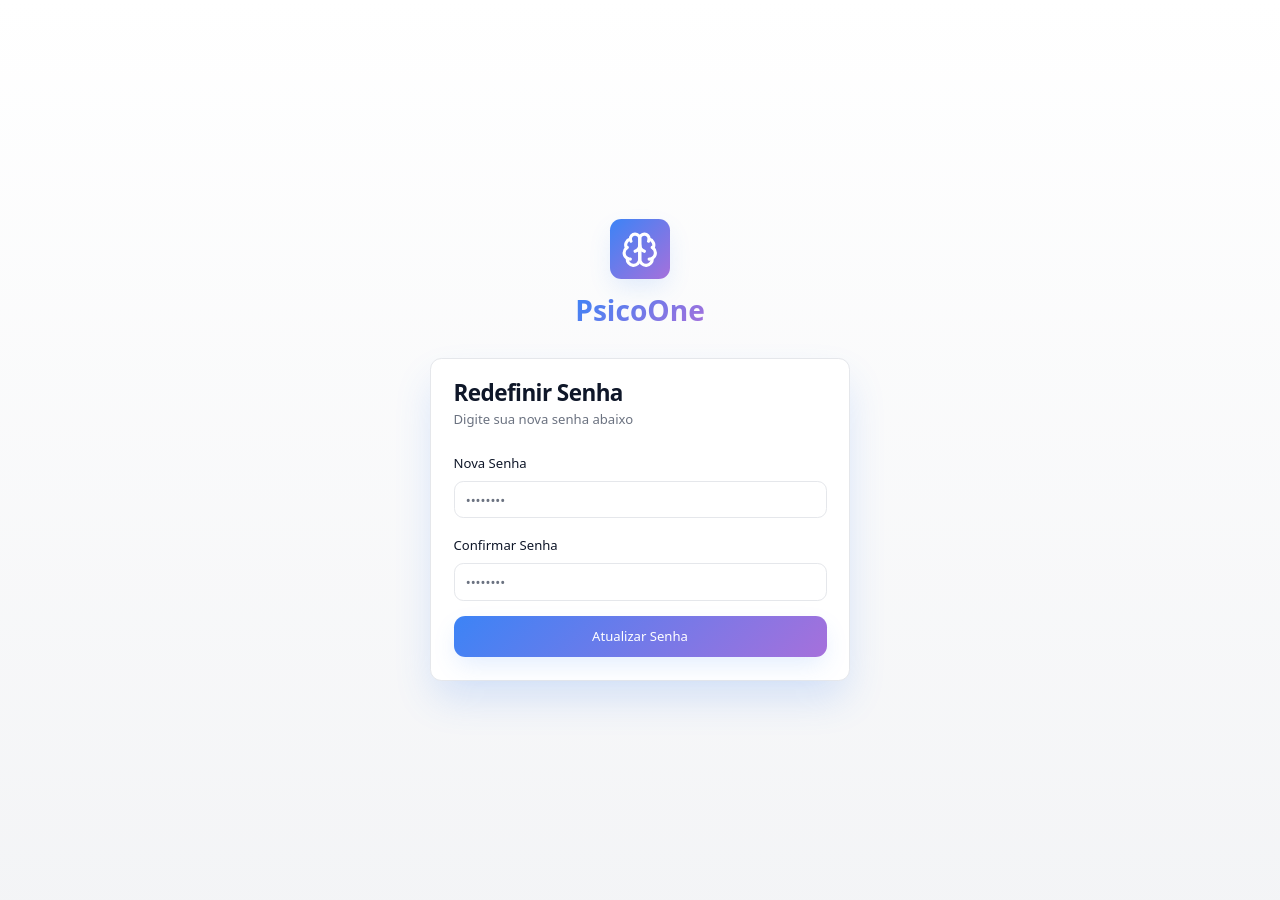
Test: Password form › updates password and closes only the current session
The image size is (1280, 900).
Type "synthetic123" into the password field labelled "Nova Senha" at (640, 500), box [454,481,826,518]
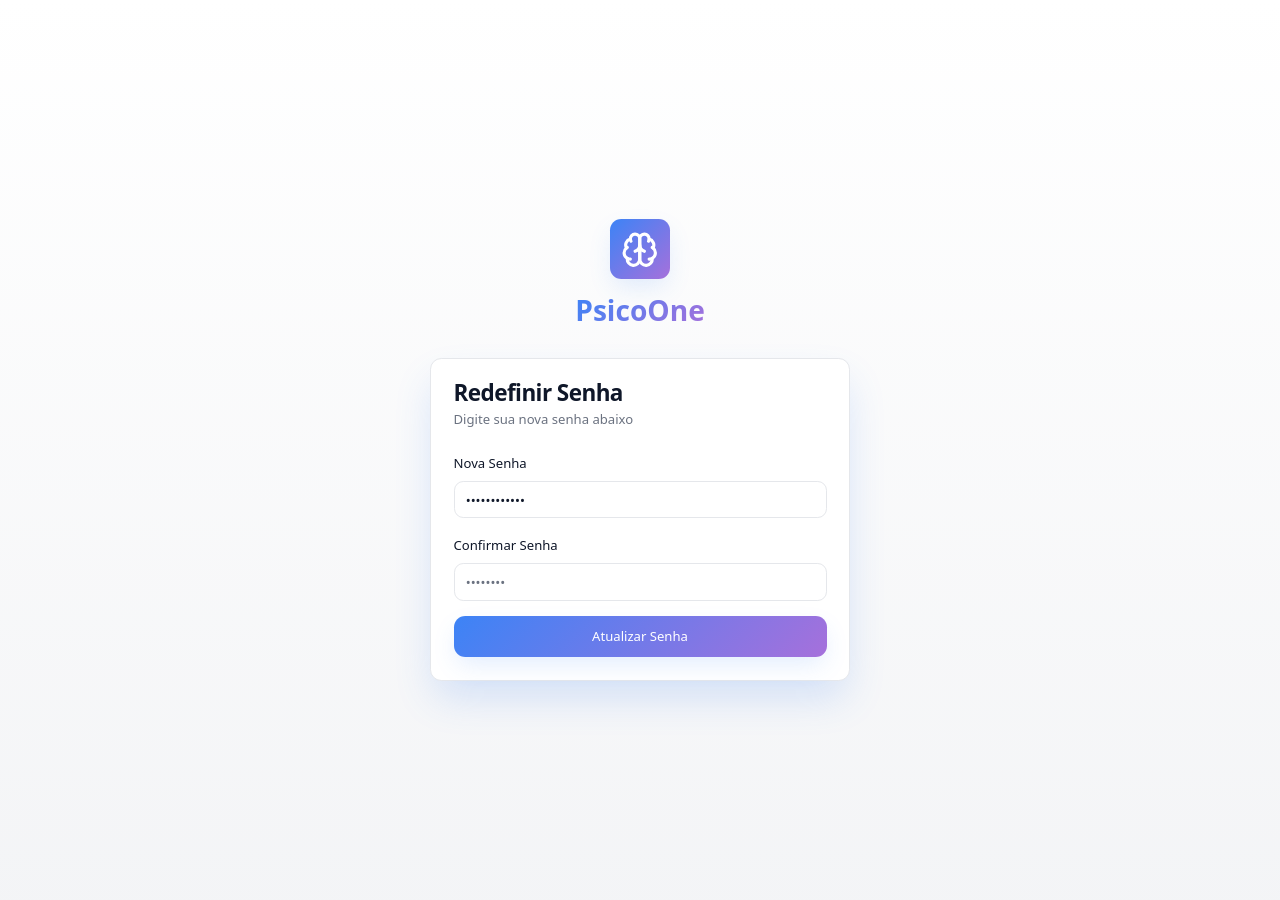
Type "synthetic123" into the password field labelled "Confirmar Senha" at (640, 582), box [454,563,826,601]
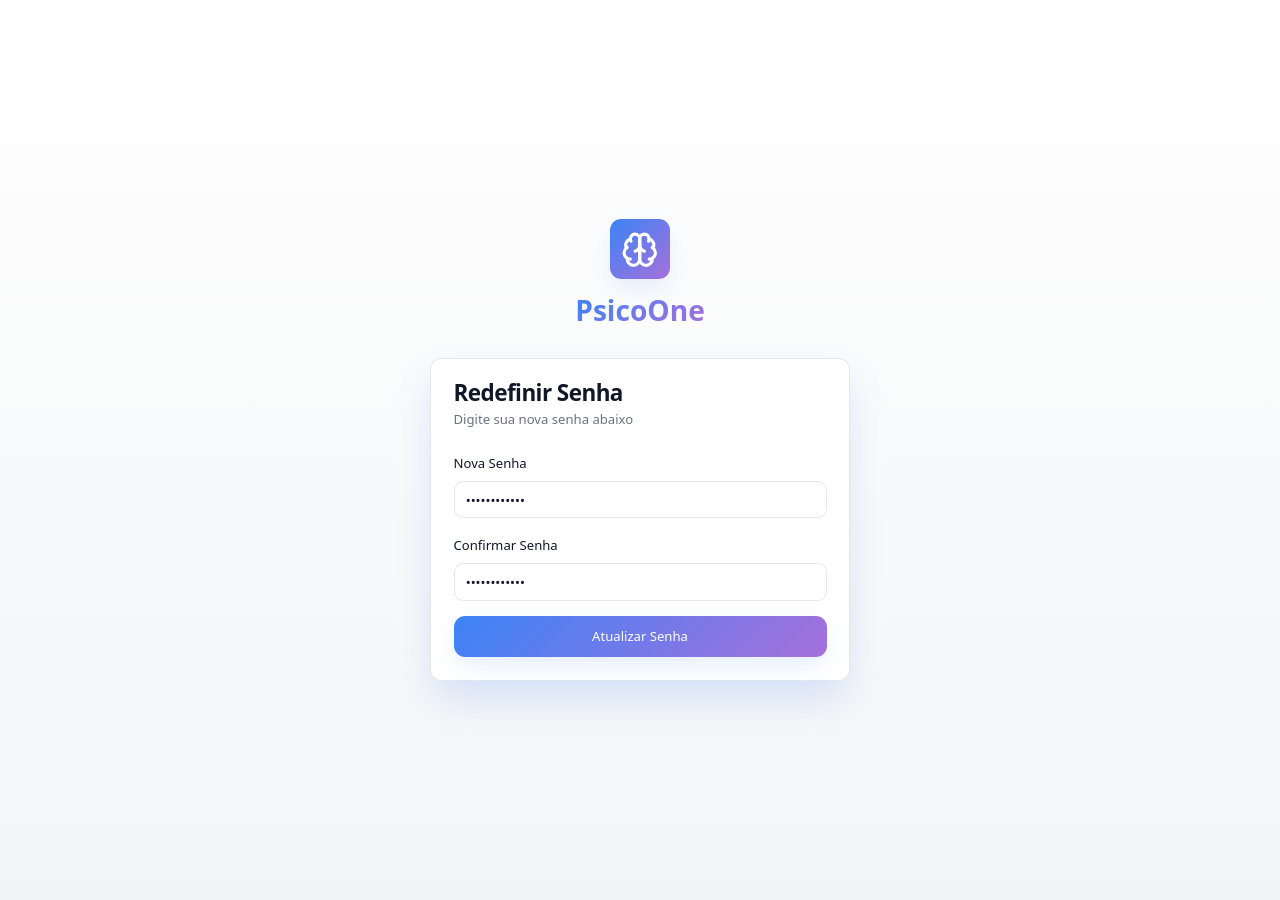
Click the button "Atualizar Senha" at (640, 637), box [454,616,826,657]
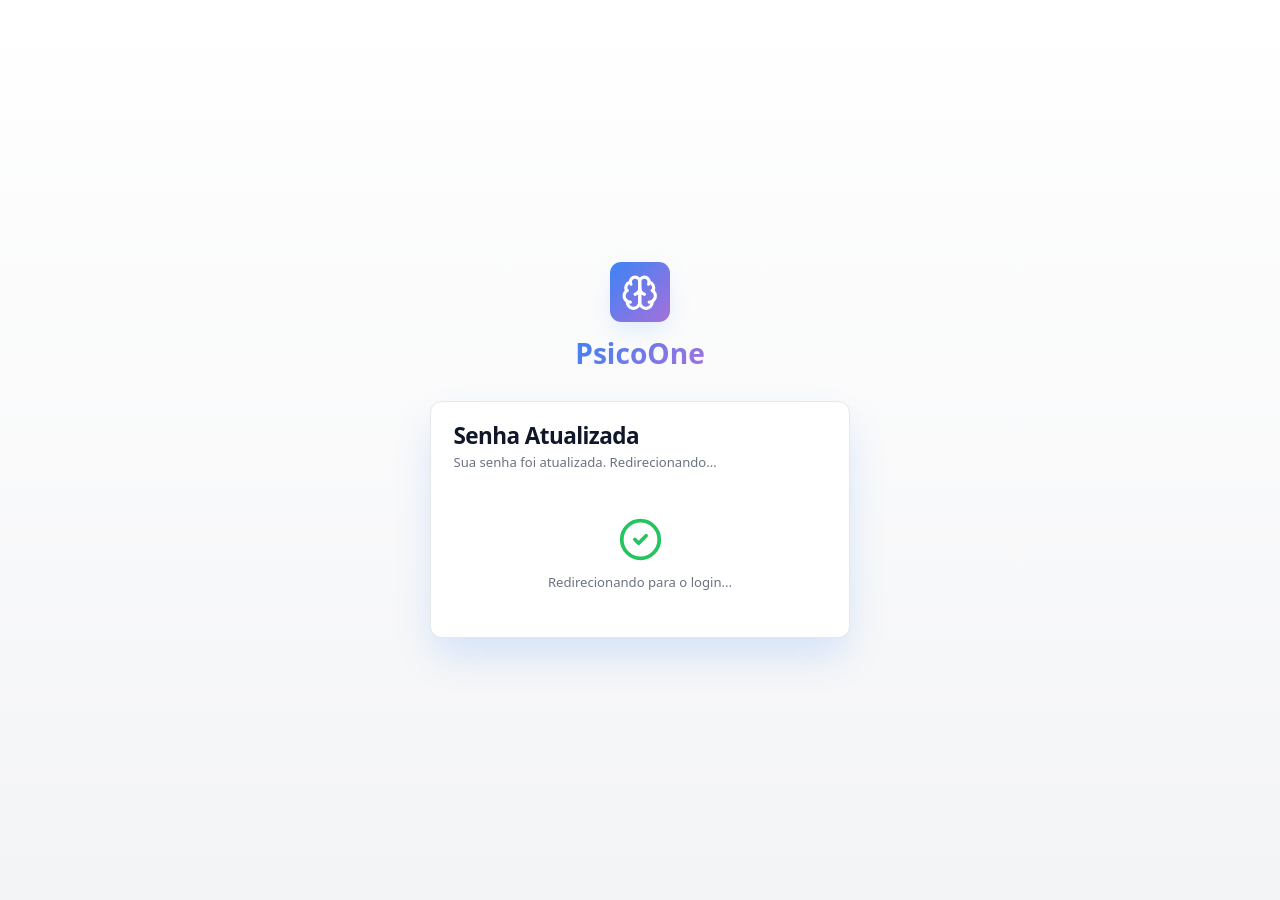
Expected: the text "Senha Atualizada" is shown, [454,420,639,451]
